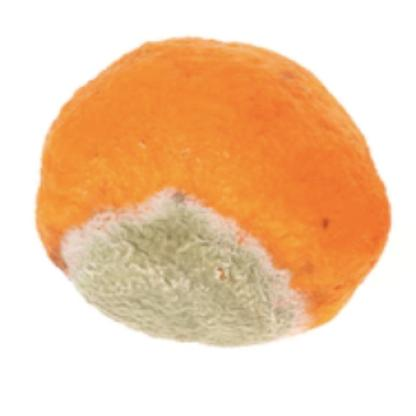rotten: (36, 35, 393, 352)
